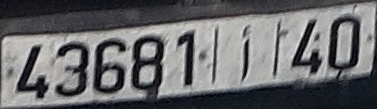0: (327, 12, 362, 71)
1: (174, 29, 197, 87)
3: (54, 42, 89, 98)
4: (14, 42, 51, 102), (289, 16, 325, 75)
6: (92, 37, 128, 95)
8: (128, 33, 165, 92)
a: (238, 24, 253, 82)
